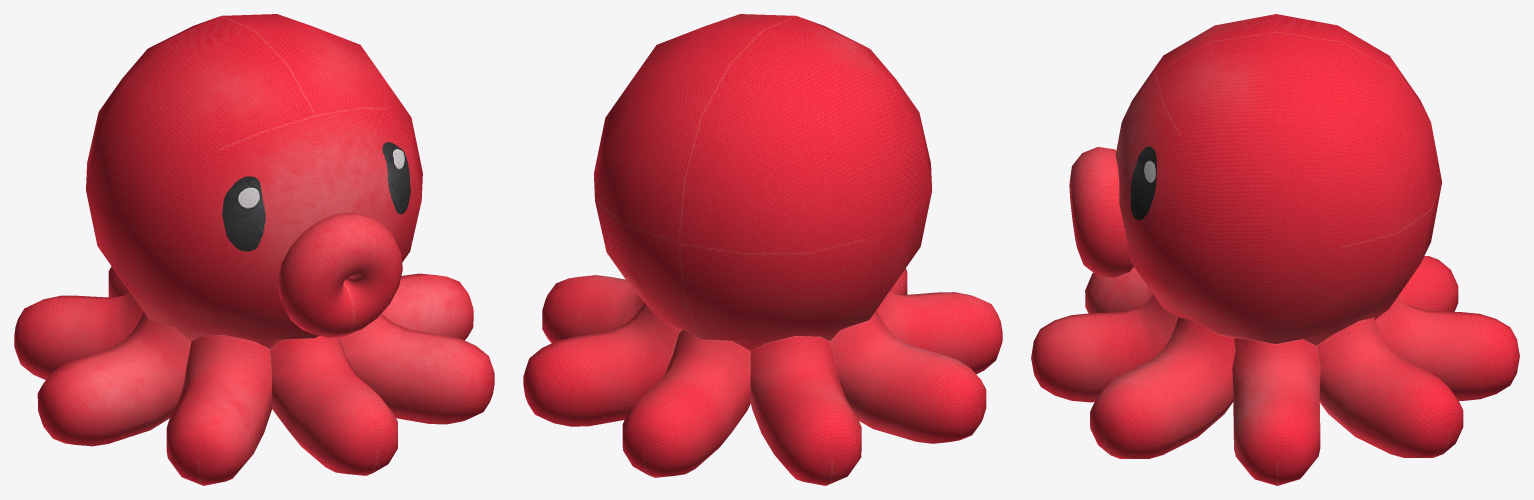
Rendered from Plushie_Squid.FBX.
3 renders of one model, left to right at view 1: azimuth 30°, elevation 25°; view 2: azimuth 150°, elevation 25°; view 3: azimuth 270°, elevation 25°, orthographic.
Visible parts, largest first — view 1: Plushie_Squid; view 2: Plushie_Squid; view 3: Plushie_Squid.
Part boxes in pixels (x1=…): Plushie_Squid: x1=14, y1=14, x2=494, y2=485; Plushie_Squid: x1=523, y1=14, x2=1002, y2=485; Plushie_Squid: x1=1031, y1=14, x2=1519, y2=485.
Size of the model in its own units: 32.37 by 26.82 by 32.37.
